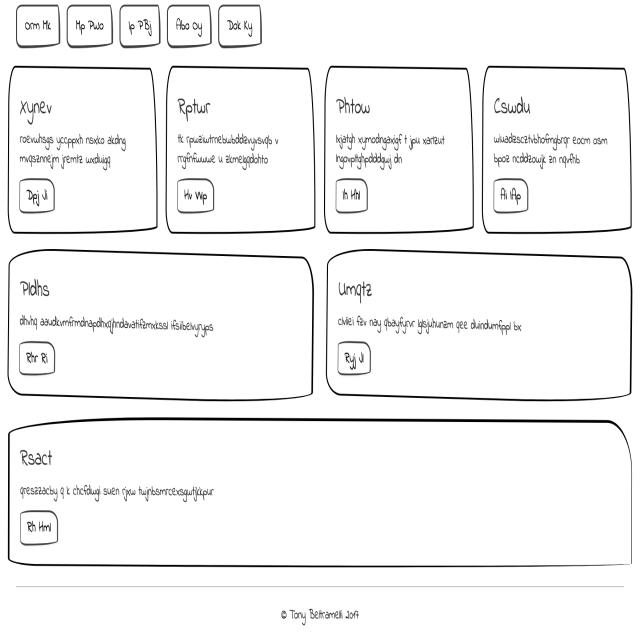Button: (327, 172, 372, 224), (487, 178, 540, 217), (329, 338, 376, 378), (17, 345, 60, 385), (167, 178, 217, 212), (20, 181, 58, 217), (21, 512, 63, 543)
Card: (5, 426, 636, 574), (6, 251, 312, 408), (326, 265, 636, 402), (161, 64, 316, 238), (8, 65, 158, 241), (321, 62, 473, 234), (482, 65, 629, 241)
Footer: (4, 573, 640, 640)
Heading 6: (329, 88, 384, 125), (15, 90, 64, 130), (12, 268, 68, 303), (494, 87, 542, 119), (8, 444, 65, 469), (333, 279, 392, 303), (169, 93, 215, 121)
Navigation Bar: (0, 0, 269, 52)
Paragraph: (12, 305, 219, 340), (489, 129, 619, 172), (173, 126, 289, 170), (328, 129, 454, 168), (16, 132, 130, 174), (12, 483, 223, 503), (329, 312, 534, 332)
